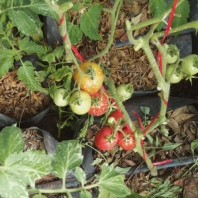tomato: (72, 61, 106, 94), (89, 94, 114, 119), (96, 126, 119, 151), (70, 91, 92, 116), (116, 129, 137, 152), (165, 64, 185, 85), (52, 87, 71, 109), (162, 45, 182, 63), (107, 112, 128, 127), (183, 55, 198, 74)
